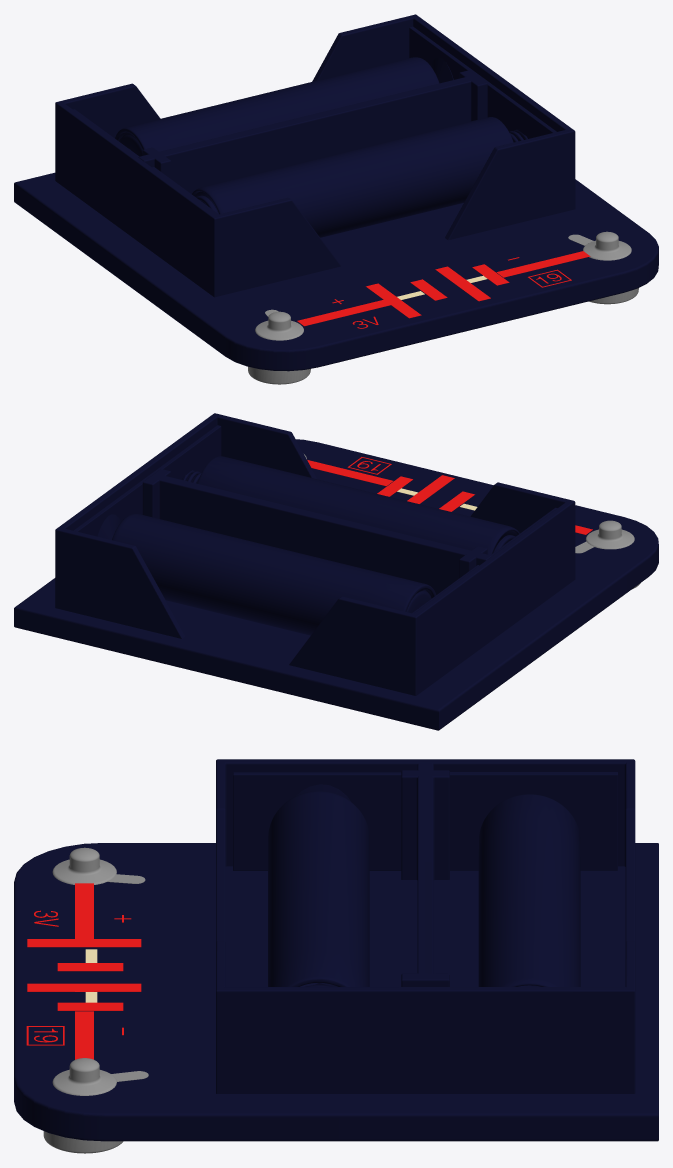
Rendered from Battery.FBX.
3 renders of one model, top to bottom at view 1: azimuth 30°, elevation 25°; view 2: azimuth 150°, elevation 25°; view 3: azimuth 270°, elevation 25°, orthographic. The views are drawn at different scales.
Visible parts, largest first — view 1: Battery components (×6), Base, Text (×2), ButtonUp (×2), ButtonDown; view 2: Battery components (×6), Base, Text (×2), ButtonUp; view 3: Battery components (×7), Base, Text (×3), ButtonUp (×2), ButtonDown.
Part boxes in pixels (x1=…): Battery components (×6): x1=55, y1=14, x2=575, y2=297; Base: x1=14, y1=172, x2=658, y2=371; Text (×2): x1=297, y1=251, x2=590, y2=326; ButtonUp (×2): x1=255, y1=231, x2=631, y2=340; ButtonDown: x1=248, y1=366, x2=310, y2=384; Battery components (×6): x1=55, y1=413, x2=575, y2=695; Base: x1=14, y1=439, x2=658, y2=730; Text (×2): x1=307, y1=460, x2=592, y2=534; ButtonUp: x1=585, y1=520, x2=634, y2=549; Battery components (×7): x1=216, y1=759, x2=635, y2=1093; Base: x1=14, y1=843, x2=658, y2=1141; Text (×3): x1=27, y1=883, x2=141, y2=1059; ButtonUp (×2): x1=52, y1=847, x2=116, y2=1095; ButtonDown: x1=43, y1=1131, x2=123, y2=1153.
Size of the model in its own units: 103 by 27.89 by 103.
